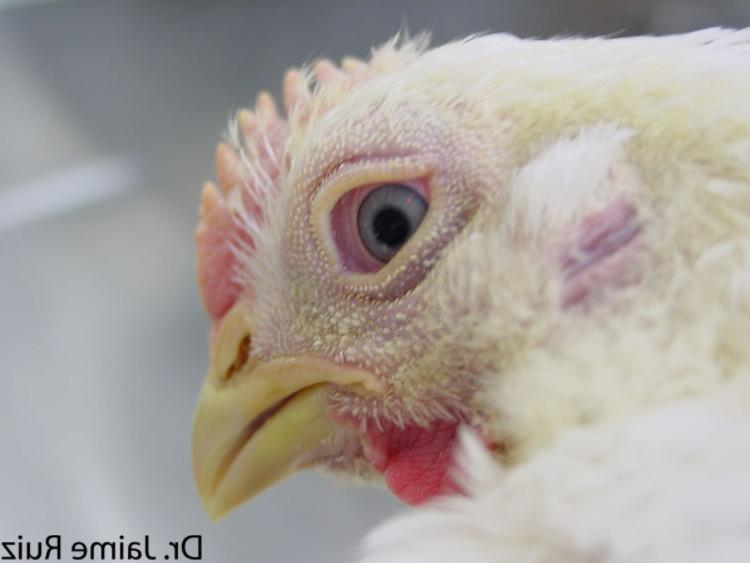AbNormal: (199, 43, 358, 321)
